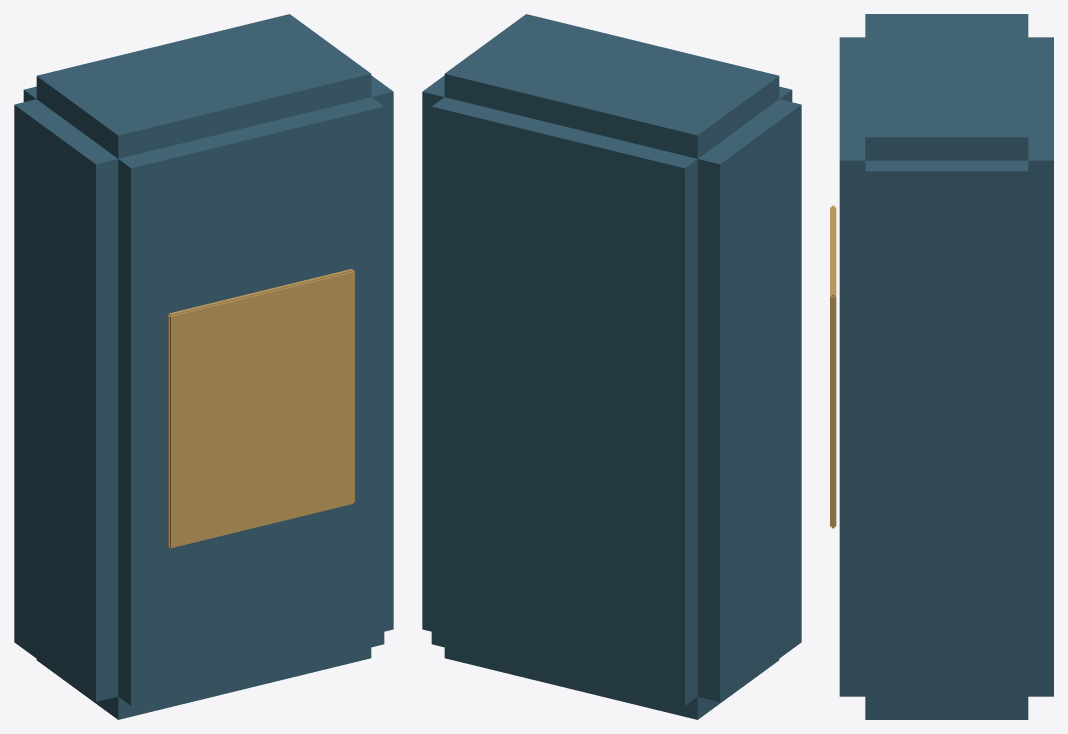
Rendered from sku_pet_food.glb.
3 views of the same model, side by side, from view 1: azimuth 30°, elevation 25°; view 2: azimuth 150°, elevation 25°; view 3: azimuth 270°, elevation 25° (orthographic).
Visible parts, largest first — view 1: sku_pet_food_Technical_blue, sku_pet_food_Sport_tan; view 2: sku_pet_food_Technical_blue; view 3: sku_pet_food_Technical_blue, sku_pet_food_Sport_tan.
Part boxes in pixels (x1,y1,x2,y2): sku_pet_food_Technical_blue: (14,14,393,719); sku_pet_food_Sport_tan: (167,269,354,548); sku_pet_food_Technical_blue: (422,14,801,719); sku_pet_food_Technical_blue: (839,14,1053,719); sku_pet_food_Sport_tan: (830,205,836,528).
Size of the model in its own units: 0.16 by 0.3 by 0.1045.
